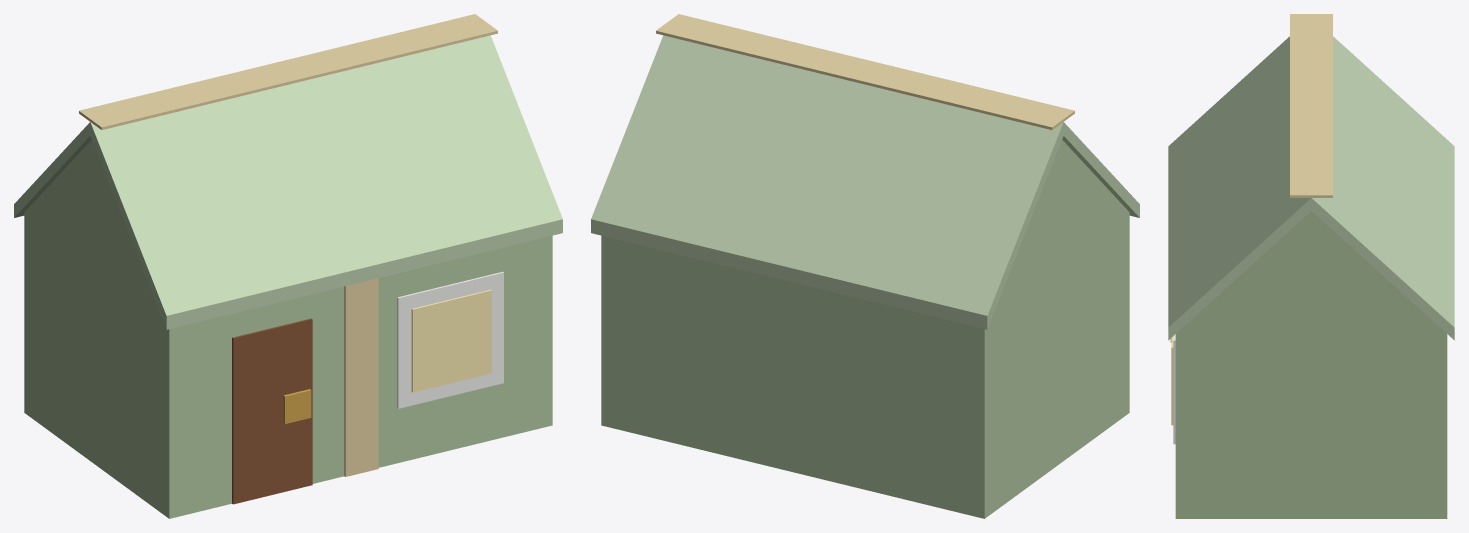
File: rental_bunk.glb
The picture shows the model from 3 angles, left to right: view 1: azimuth 30°, elevation 25°; view 2: azimuth 150°, elevation 25°; view 3: azimuth 270°, elevation 25°; orthographic projection. The views are drawn at different scales.
Visible parts, largest first — view 1: rental_bunk_Body; view 2: rental_bunk_Body; view 3: rental_bunk_Body.
Boxes of the visible parts, <box> form: rental_bunk_Body: <box>14,14,562,518</box>; rental_bunk_Body: <box>591,14,1139,518</box>; rental_bunk_Body: <box>1168,14,1454,518</box>.
Bounding box in the file's own units: 0.6 × 0.504 × 0.4.
